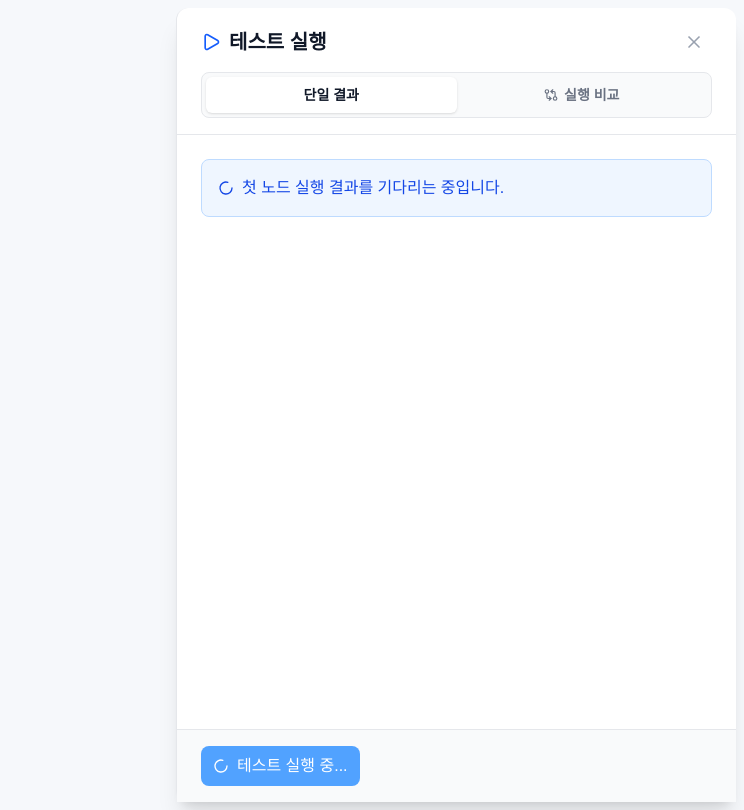
Test: TestSidebar execution comparison › 실행 비교 중의 노드 대기와 비교 준비 상태를 한 패널에 표시한다
Click the button "실행 비교" at coordinates (582, 95), box [456,77,707,113]
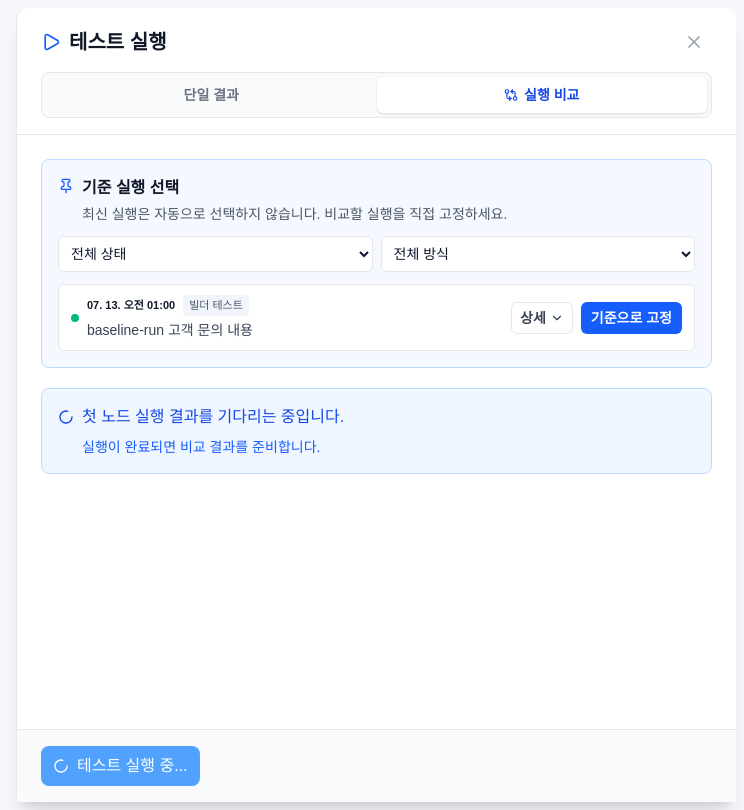
Expected: the element with test id "execution-progress-status" shows "첫 노드 실행 결과를 기다리는 중입니다.", [82,408,344,425]
Now the element with test id "execution-progress-status" shows "실행이 완료되면 비교 결과를 준비합니다.", box [82,439,320,455]
